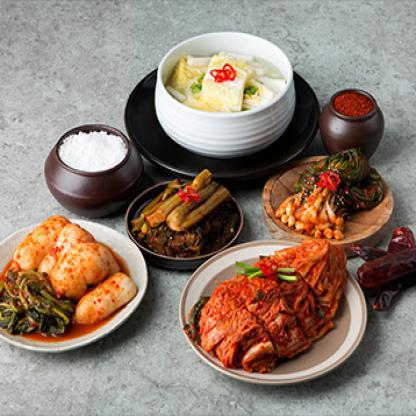kimchi: (184, 236, 354, 374)
